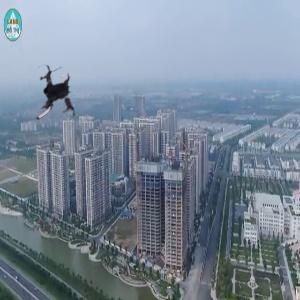drone: (17, 63, 85, 131)
